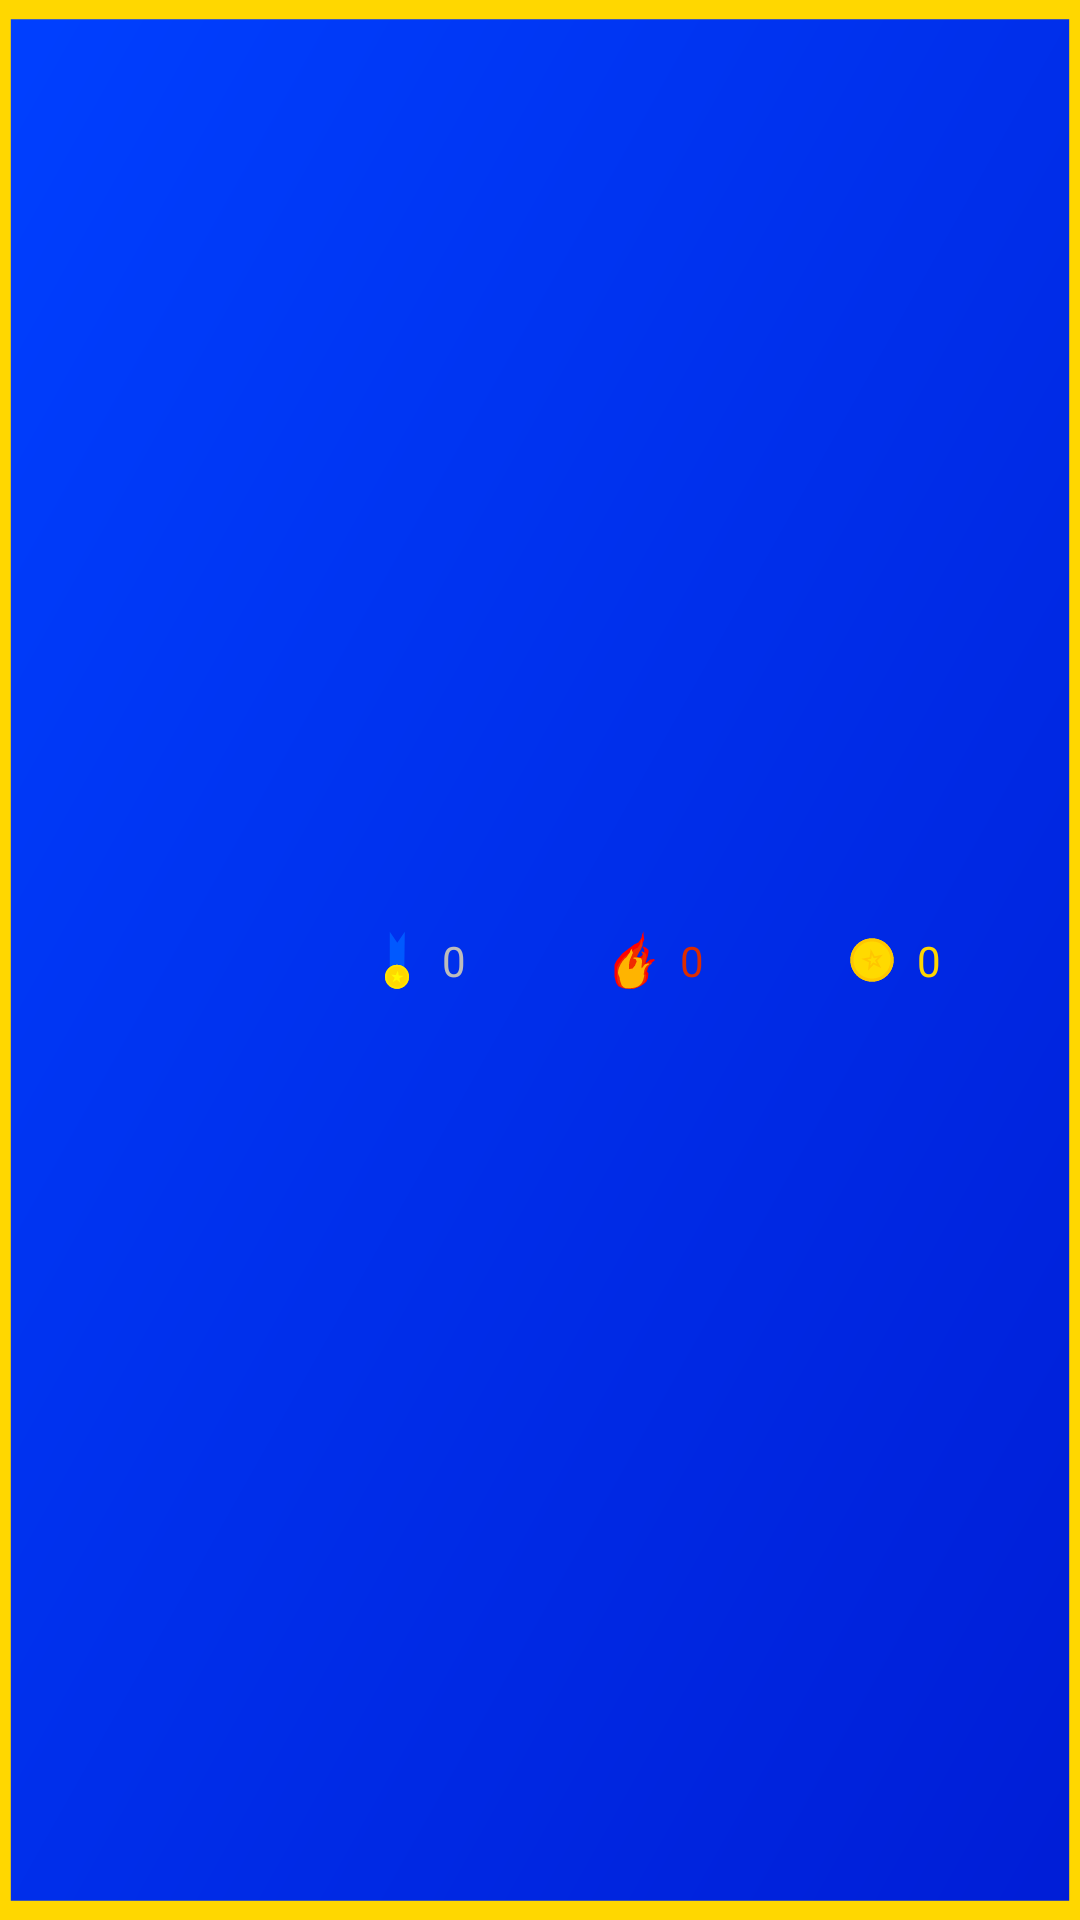

Where icons sit on this 1080*1920 app screen, as (x1, y1, x2, y2):
gold: (850, 938, 894, 982)
medal: (385, 933, 409, 989)
streak: (614, 931, 655, 989)
